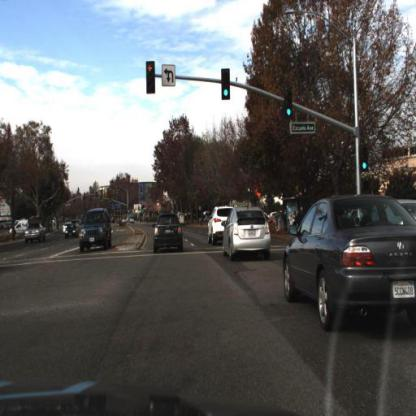car: (279, 176, 416, 363), (219, 194, 279, 270), (74, 203, 118, 256), (152, 211, 186, 259), (207, 195, 226, 260), (22, 222, 47, 247), (62, 222, 81, 243)
trafficLight-Green: (283, 94, 296, 125), (221, 76, 233, 108), (285, 94, 294, 123), (361, 155, 371, 176)
trafficLight-RedLeft: (144, 52, 155, 85)
